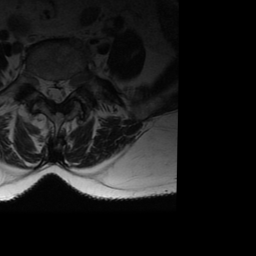CCS_normal: (51, 72, 60, 110)
LFS_normal: (70, 65, 80, 98)
LLS_normal: (60, 70, 70, 103)
RFS_normal: (34, 66, 43, 99)
RLS_normal: (42, 70, 51, 106)
